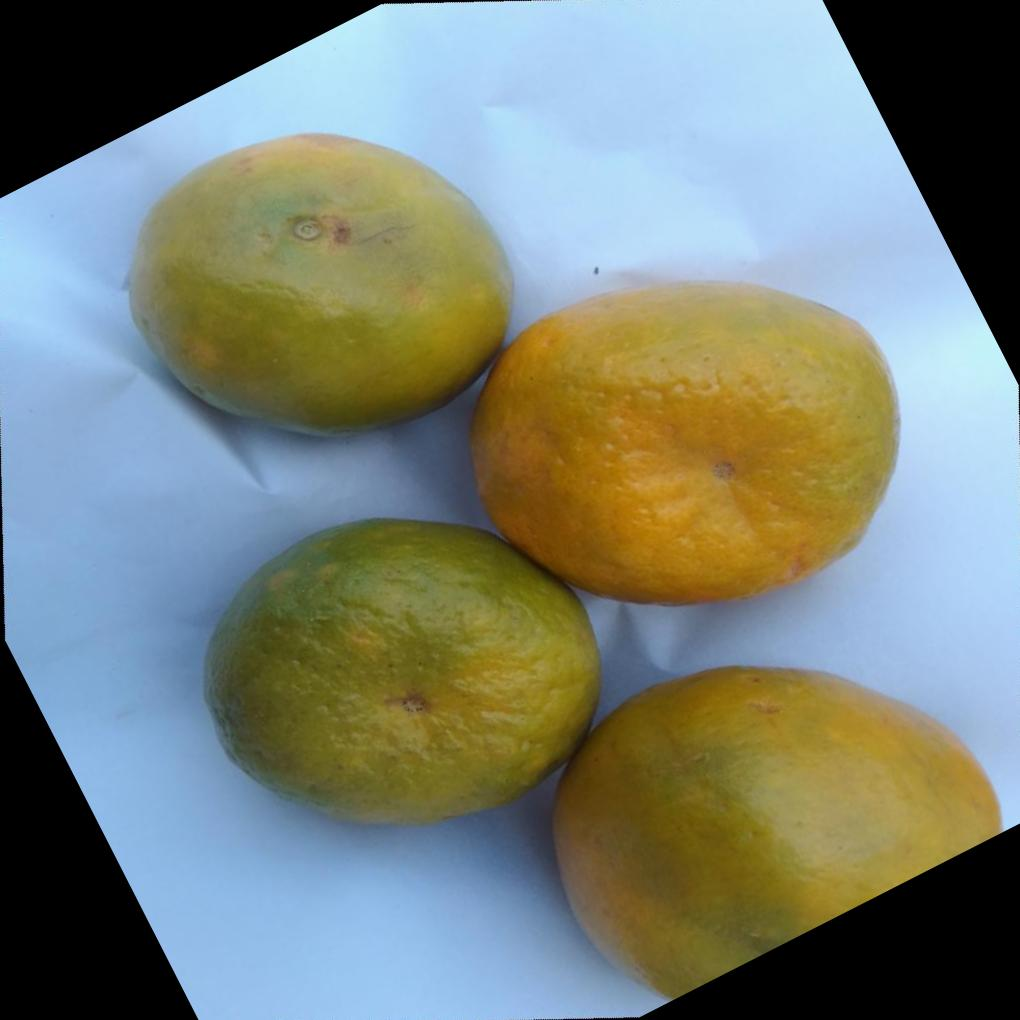FreshGuava: (122, 132, 1002, 1004)
